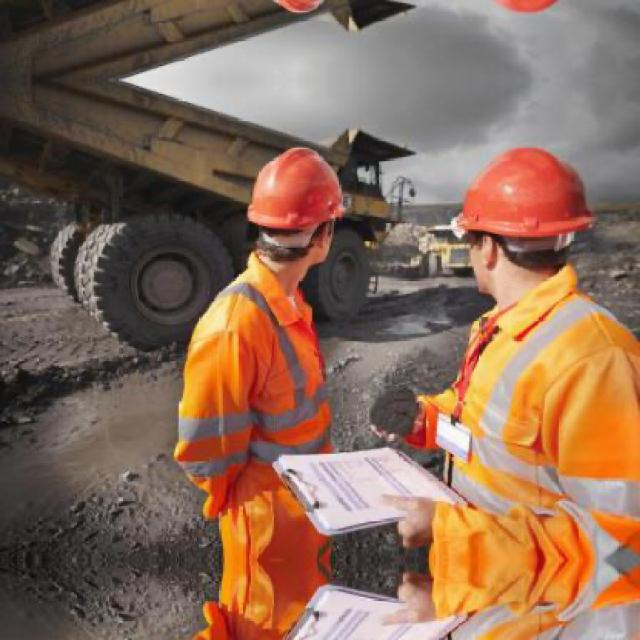helmet: (445, 134, 606, 300), (240, 141, 357, 277)
